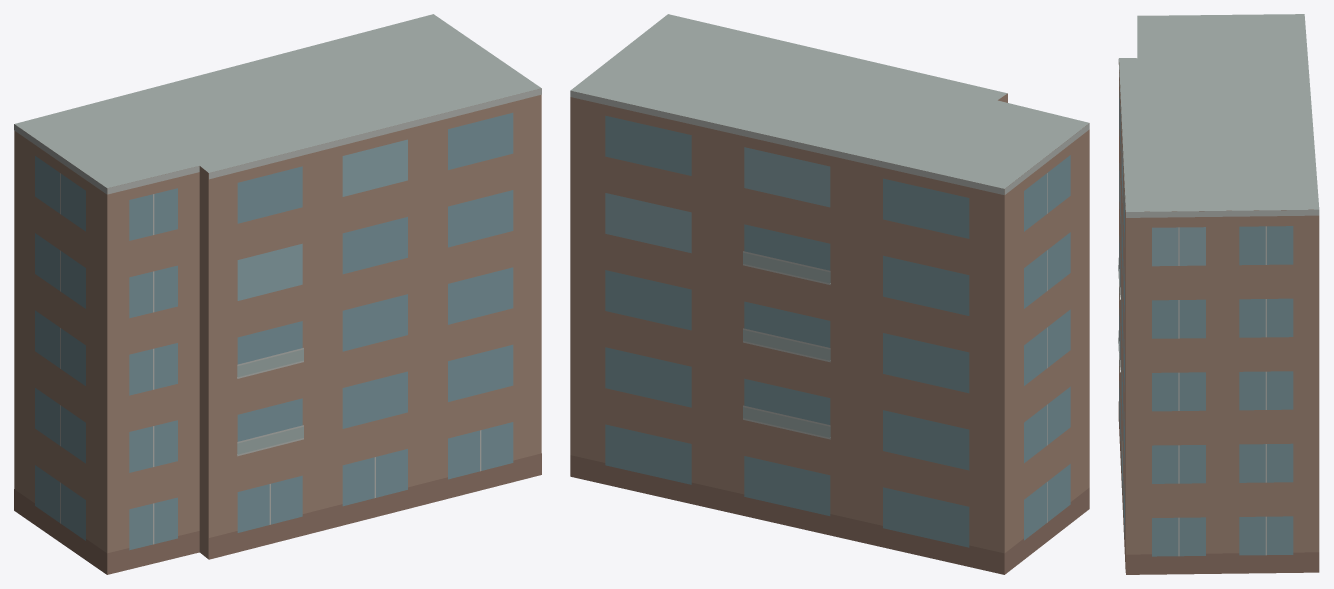
Rendered from survey-upis-32597880.glb.
3 renders of one model, left to right at view 1: azimuth 30°, elevation 25°; view 2: azimuth 150°, elevation 25°; view 3: azimuth 270°, elevation 25°, orthographic. The views are drawn at different scales.
Visible parts, largest first — view 1: survey-upis-32597880.tmp; view 2: survey-upis-32597880.tmp; view 3: survey-upis-32597880.tmp.
Boxes of the visible parts, <box> form: survey-upis-32597880.tmp: <box>14,14,541,574</box>; survey-upis-32597880.tmp: <box>570,14,1089,574</box>; survey-upis-32597880.tmp: <box>1118,14,1319,574</box>.
Bounding box in the file's own units: 17.33 × 14.8 × 7.43.
